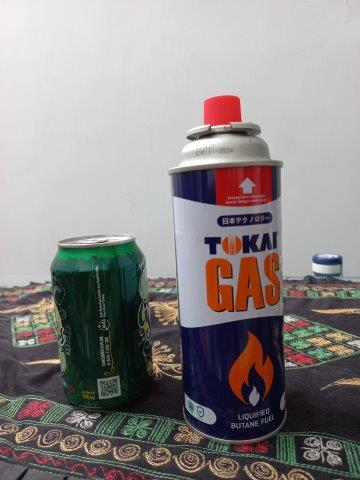kaleng: (170, 95, 288, 442), (50, 234, 154, 412)
